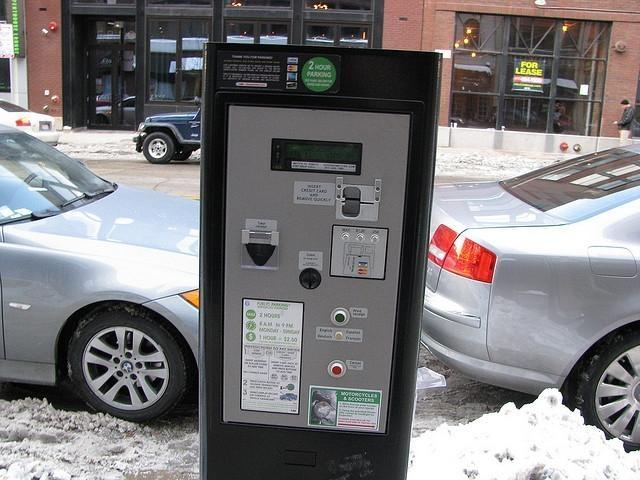car: (421, 140, 640, 452), (0, 124, 201, 425), (0, 97, 61, 147)
truck: (132, 96, 201, 163)
